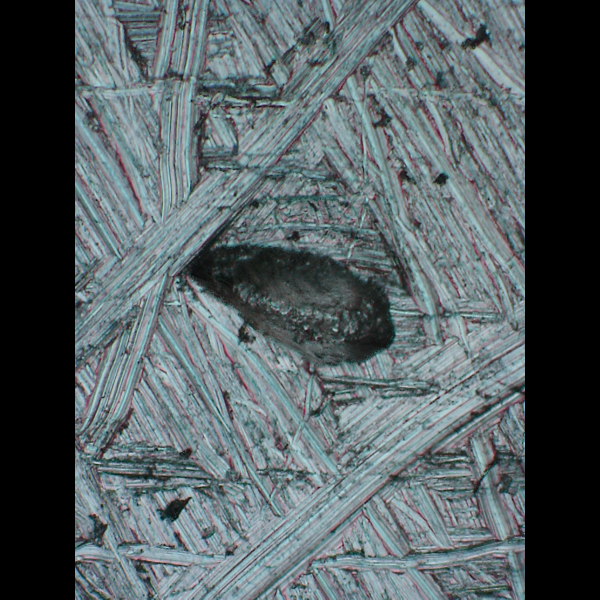d: (75, 4, 425, 392), (180, 232, 403, 383)
